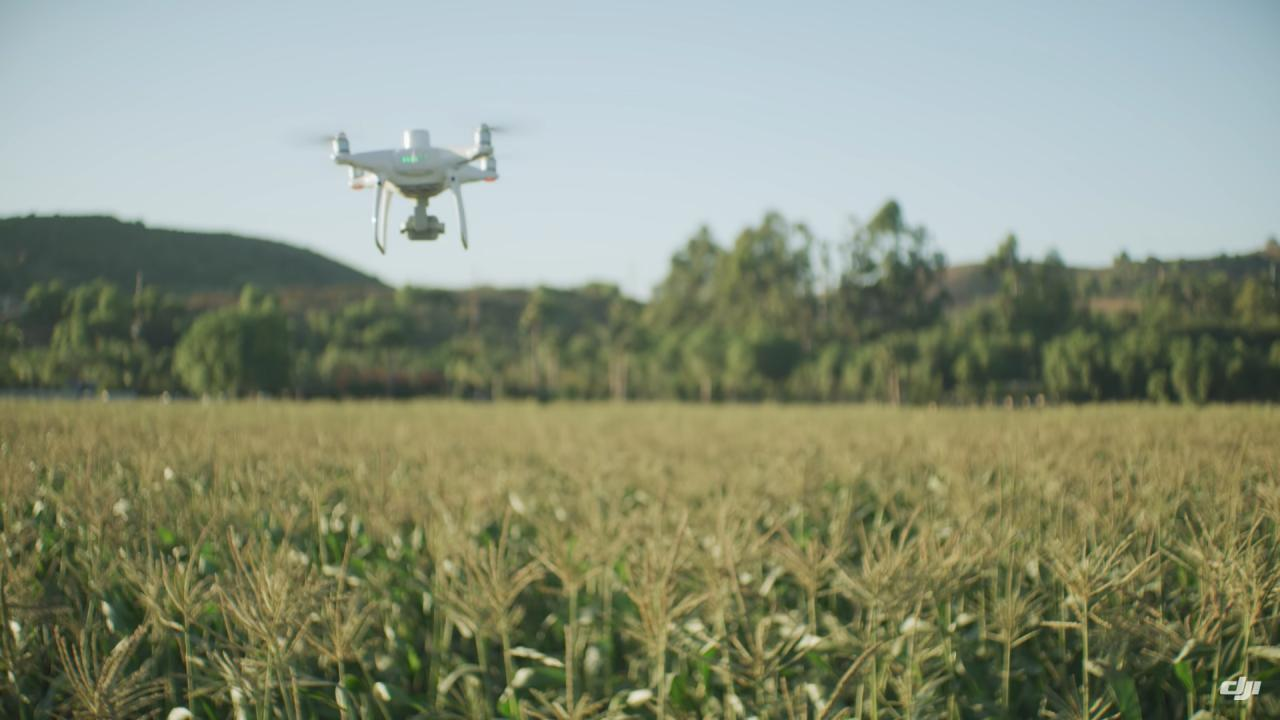Drone: (276, 108, 562, 268)
